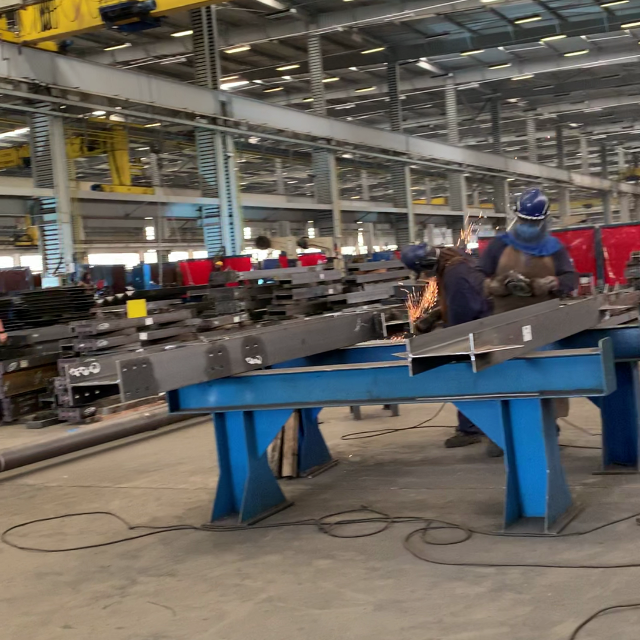face-shield: (508, 219, 548, 244), (399, 268, 436, 285)
glove: (409, 308, 440, 334), (534, 274, 556, 298), (482, 276, 504, 295)
helmet: (514, 189, 551, 219), (400, 242, 430, 262)
person: (398, 244, 481, 456), (459, 185, 579, 300)
safety-shoe: (445, 430, 482, 448)
